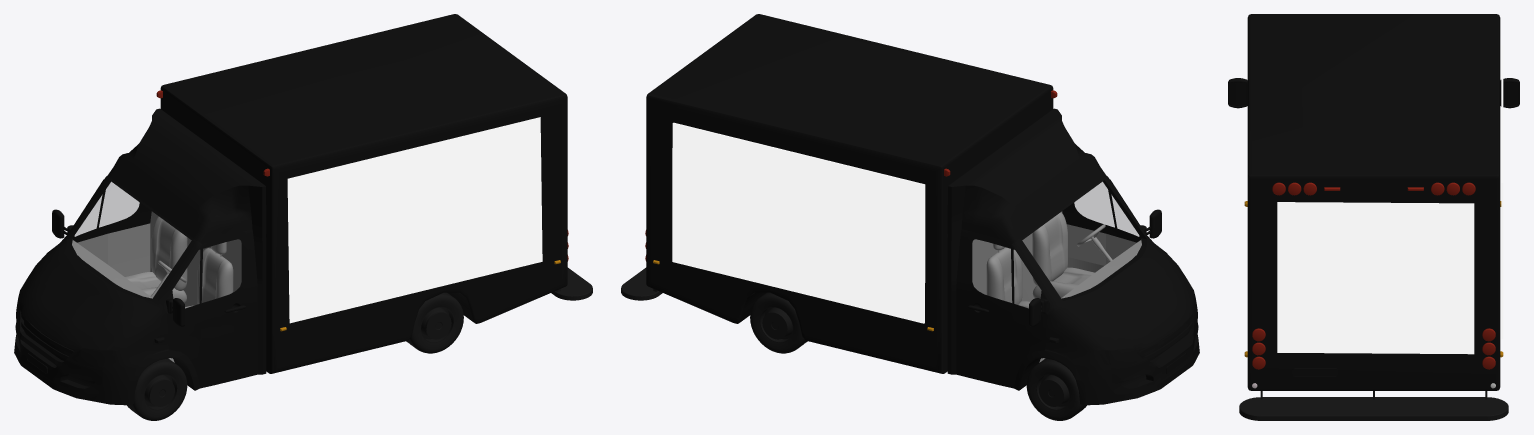
File: Brightpath_LED_Truck_WebReady.glb
3 renders of one model, left to right at view 1: azimuth 30°, elevation 25°; view 2: azimuth 150°, elevation 25°; view 3: azimuth 270°, elevation 25°, orthographic. The views are drawn at different scales.
Parts seen in each view (by area): view 1: Body_Back2, Screen_Left, Front_Body, Body_Top, Glass.001, Inner, Sprinter_413_Wheel_Front, Sprinter_413_Wheel_Rear, pCube36, pCube36.001, BackStep, pCube37 (+1 smaller); view 2: Body_Back2, Screen_Right, Front_Body, Body_Top, Glass.001, Inner, Sprinter_413_Wheel_Front, Sprinter_413_Wheel_Rear, pCube36.001, pCube36, pCube37.001, BackStep; view 3: Body_Back2, Screen_Rear, BackStep, Screen_Right, group2, BackMirror, pCube40, pCube40.001, pCube45, pCube45.001, CarID_Sign1.
Boxes of the visible parts, x1,y1,x2,y2 form: Body_Back2: (160,14,567,373); Screen_Left: (287,117,542,323); Front_Body: (14,175,257,405); Body_Top: (108,108,266,374); Glass.001: (67,180,241,307); Inner: (72,211,241,362); Sprinter_413_Wheel_Front: (127,358,187,420); Sprinter_413_Wheel_Rear: (406,292,463,353); pCube36: (151,216,187,290); pCube36.001: (197,248,233,304); BackStep: (551,267,592,300); pCube37: (125,272,186,302); Body_Back2: (646,14,1053,373); Screen_Right: (672,122,925,323); Front_Body: (956,175,1199,405); Body_Top: (947,108,1105,374); Glass.001: (972,180,1146,307); Inner: (972,211,1141,362); Sprinter_413_Wheel_Front: (1026,358,1086,420); Sprinter_413_Wheel_Rear: (750,292,807,353); pCube36.001: (1032,212,1067,286); pCube36: (986,247,1022,304); pCube37.001: (1032,267,1094,298); BackStep: (621,267,662,300); Body_Back2: (1247,14,1500,390); Screen_Rear: (1277,202,1474,354); BackStep: (1239,391,1508,420); Screen_Right: (1501,45,1503,339); group2: (1228,78,1247,108); BackMirror: (1500,78,1519,108); pCube40: (1407,182,1475,195); pCube40.001: (1272,182,1340,195); pCube45: (1482,328,1495,369); pCube45.001: (1252,328,1265,369); CarID_Sign1: (1292,368,1337,376).
Bounding box in the file's own units: 5.82 × 2.57 × 2.6.
